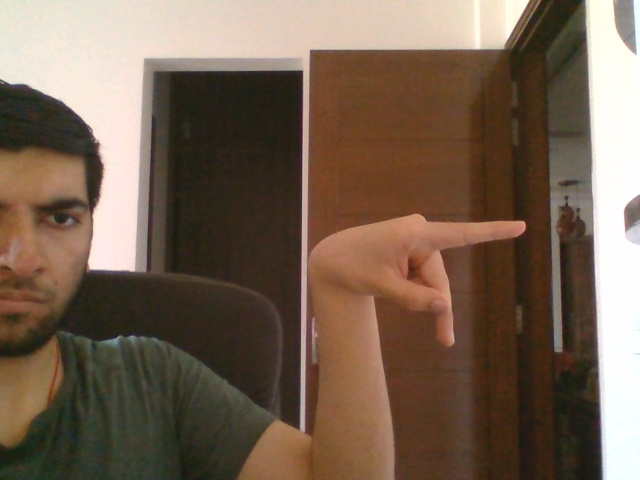LetterP: (307, 211, 527, 353)
